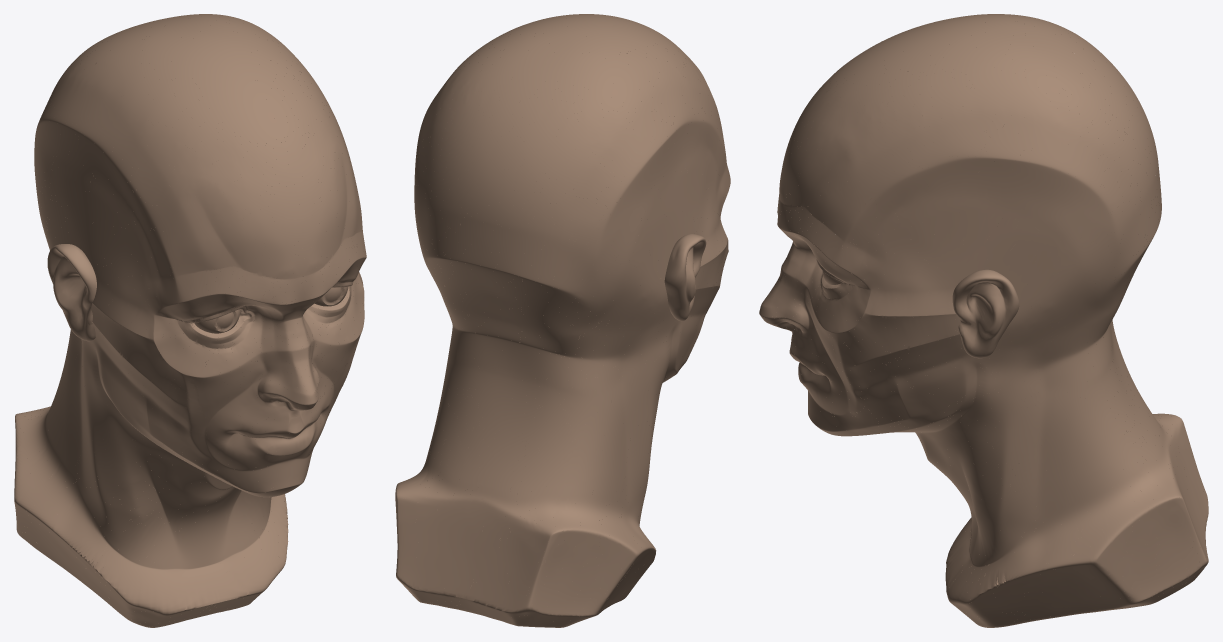
File: head_planes.glb
3 views of the same model, side by side, from view 1: azimuth 30°, elevation 25°; view 2: azimuth 150°, elevation 25°; view 3: azimuth 270°, elevation 25° (orthographic). The views are drawn at different scales.
Parts seen in each view (by area): view 1: Object_3, Object_2, Object_4, Object_5; view 2: Object_2, Object_3, Object_4, Object_5; view 3: Object_2, Object_3, Object_4, Object_5.
Boxes of the visible parts, <box> form: Object_3: <box>14,14,364,627</box>; Object_2: <box>15,15,366,603</box>; Object_4: <box>14,14,366,627</box>; Object_5: <box>47,244,348,341</box>; Object_2: <box>396,20,730,626</box>; Object_3: <box>395,14,728,627</box>; Object_4: <box>396,14,730,625</box>; Object_5: <box>460,166,706,321</box>; Object_2: <box>761,14,1208,626</box>; Object_3: <box>759,14,1207,627</box>; Object_4: <box>761,16,1208,627</box>; Object_5: <box>822,161,1019,358</box>.
Size of the model in its own units: 1.61 by 3.27 by 2.32.
